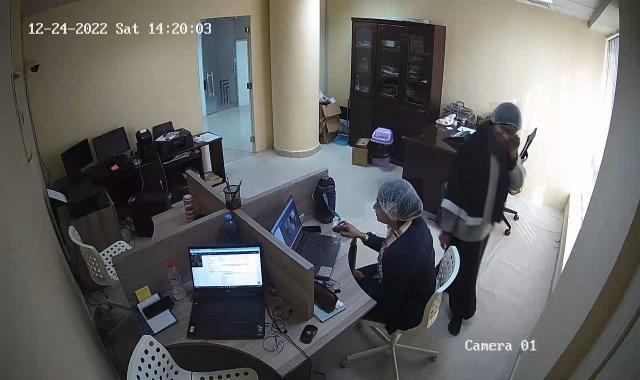gloves: (377, 178, 423, 225), (489, 102, 521, 146)
no_apron: (333, 218, 368, 245), (507, 129, 529, 170), (435, 225, 459, 255)
no_hairnet: (367, 203, 398, 234), (489, 126, 516, 152)
